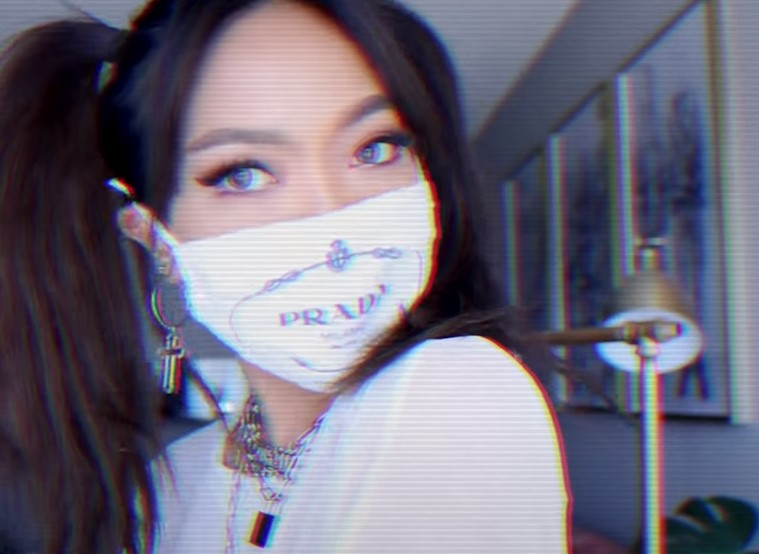face_with_mask: (119, 6, 462, 395)
